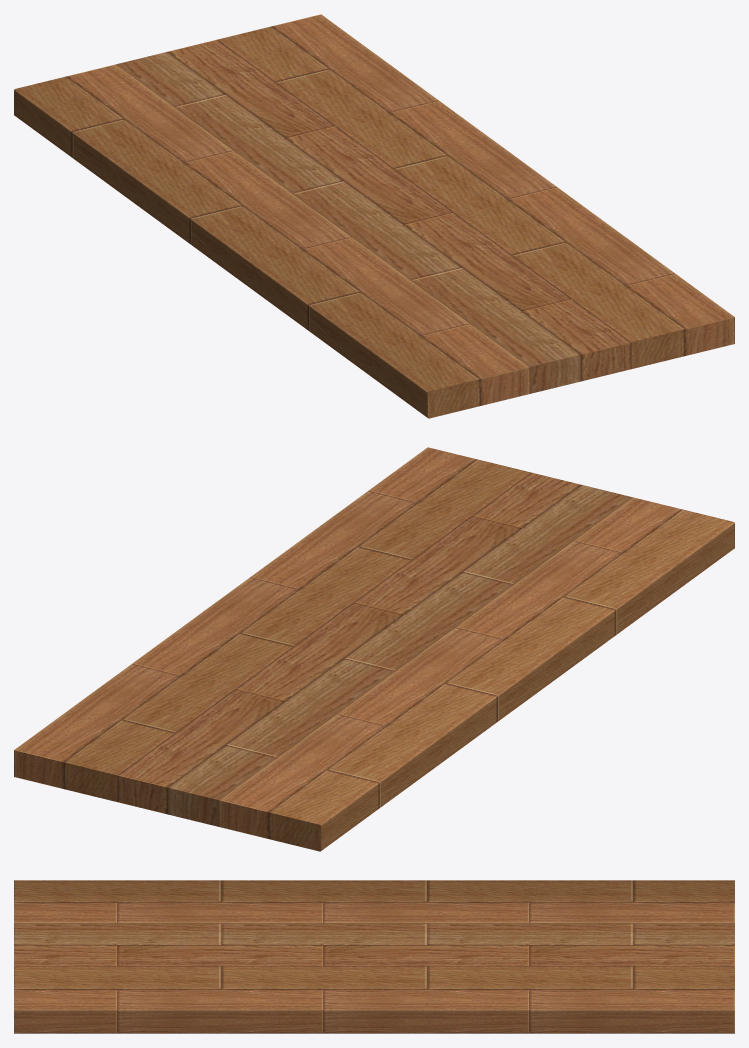
3 views of the same model, one above another, from view 1: azimuth 30°, elevation 25°; view 2: azimuth 150°, elevation 25°; view 3: azimuth 270°, elevation 25° (orthographic). The views are drawn at different scales.
Visible parts, largest first — view 1: Joint_0_Object_0; view 2: Joint_0_Object_0; view 3: Joint_0_Object_0.
Part boxes in pixels (x1,y1,x2,y2): Joint_0_Object_0: [14, 14, 734, 418]; Joint_0_Object_0: [14, 447, 734, 851]; Joint_0_Object_0: [14, 880, 734, 1033].
Size of the model in its own units: 2400 by 200 by 5600.
Materials: 1 (1 with a texture image).
